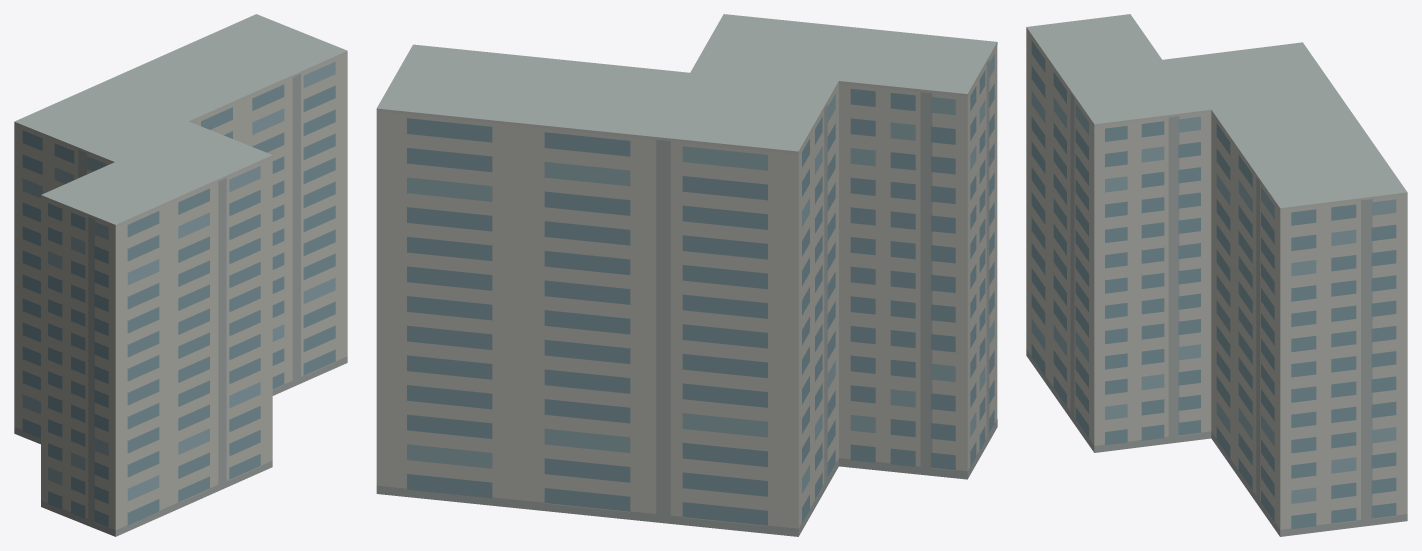
The model's file is residential-f3dd252f-2b35-44ae-9ef2-d38a8182538a.glb.
3 views of the same model, side by side, from view 1: azimuth 30°, elevation 25°; view 2: azimuth 150°, elevation 25°; view 3: azimuth 270°, elevation 25° (orthographic). The views are drawn at different scales.
Parts seen in each view (by area): view 1: residential-f3dd252f-2b35-44ae-9ef2-d38a8182538a.tmp; view 2: residential-f3dd252f-2b35-44ae-9ef2-d38a8182538a.tmp; view 3: residential-f3dd252f-2b35-44ae-9ef2-d38a8182538a.tmp.
Part boxes in pixels (box(x1,y1,x2,y2)): residential-f3dd252f-2b35-44ae-9ef2-d38a8182538a.tmp: box(14, 14, 347, 536); residential-f3dd252f-2b35-44ae-9ef2-d38a8182538a.tmp: box(376, 14, 997, 536); residential-f3dd252f-2b35-44ae-9ef2-d38a8182538a.tmp: box(1026, 14, 1407, 536).
Size of the model in its own units: 43.09 by 34 by 35.75.
